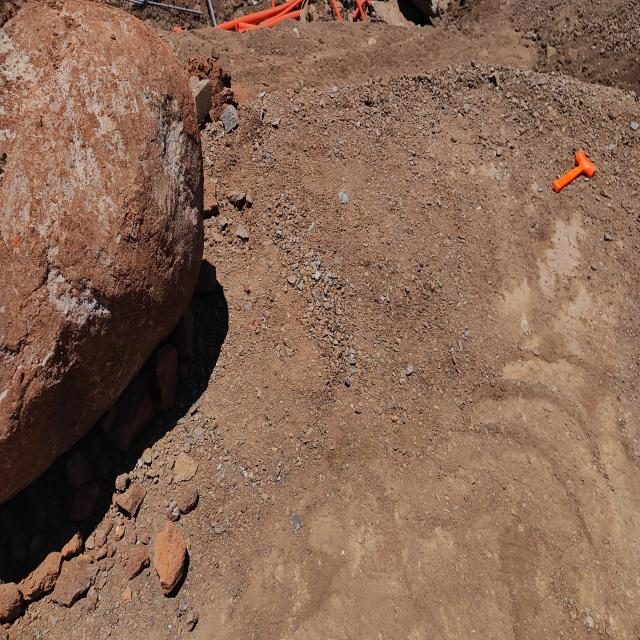Orange_hammer: (552, 149, 596, 194)
